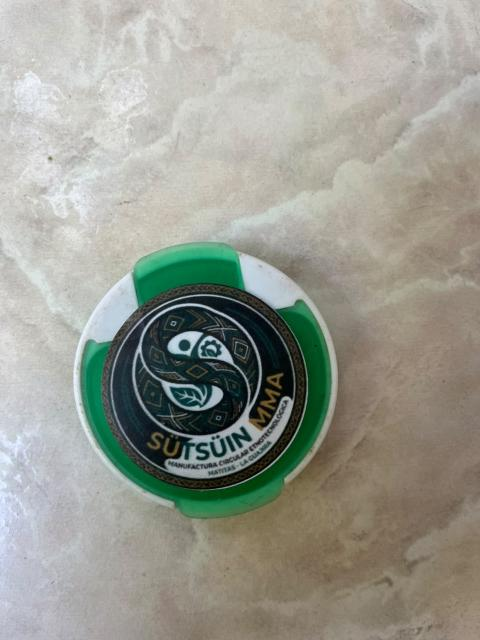HDPE: (51, 239, 361, 561)
